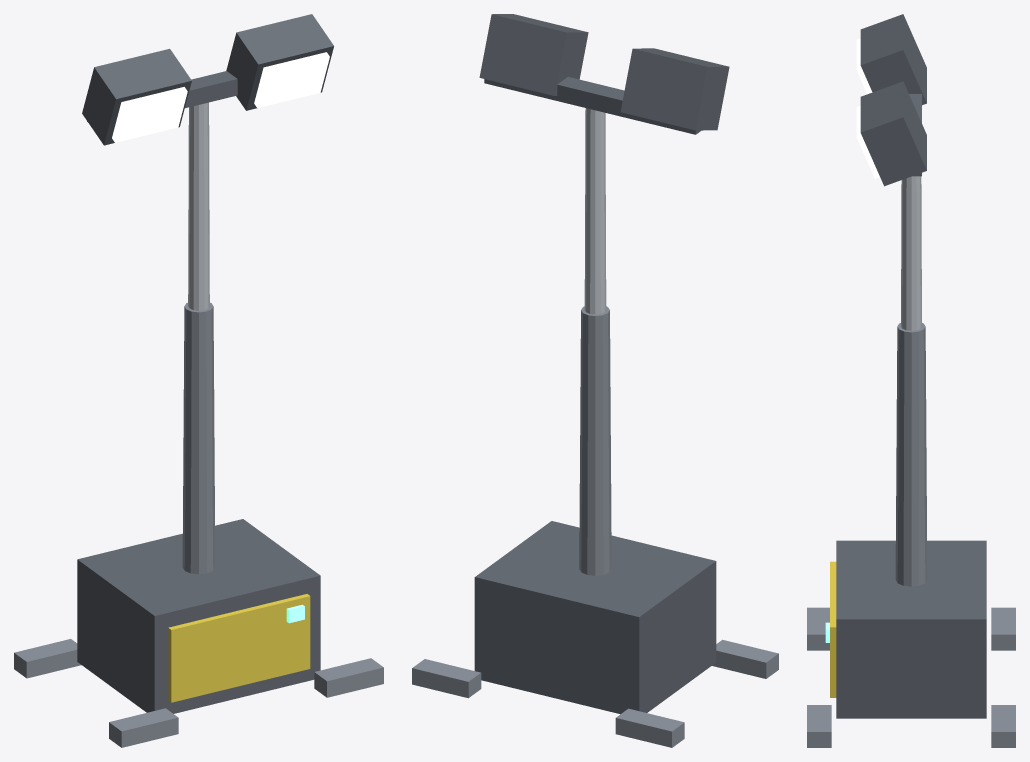
File: prop_floodlight_tower.glb
The picture shows the model from 3 angles, left to right: view 1: azimuth 30°, elevation 25°; view 2: azimuth 150°, elevation 25°; view 3: azimuth 270°, elevation 25°; orthographic projection. The views are drawn at different scales.
Parts seen in each view (by area): view 1: PropFloodlightTower; view 2: PropFloodlightTower; view 3: PropFloodlightTower.
Boxes of the visible parts, x1,y1,x2,y2 form: PropFloodlightTower: (14, 14, 383, 747); PropFloodlightTower: (412, 14, 778, 747); PropFloodlightTower: (807, 14, 1015, 747).
Bounding box in the file's own units: 1.66 × 3.87 × 1.18.
